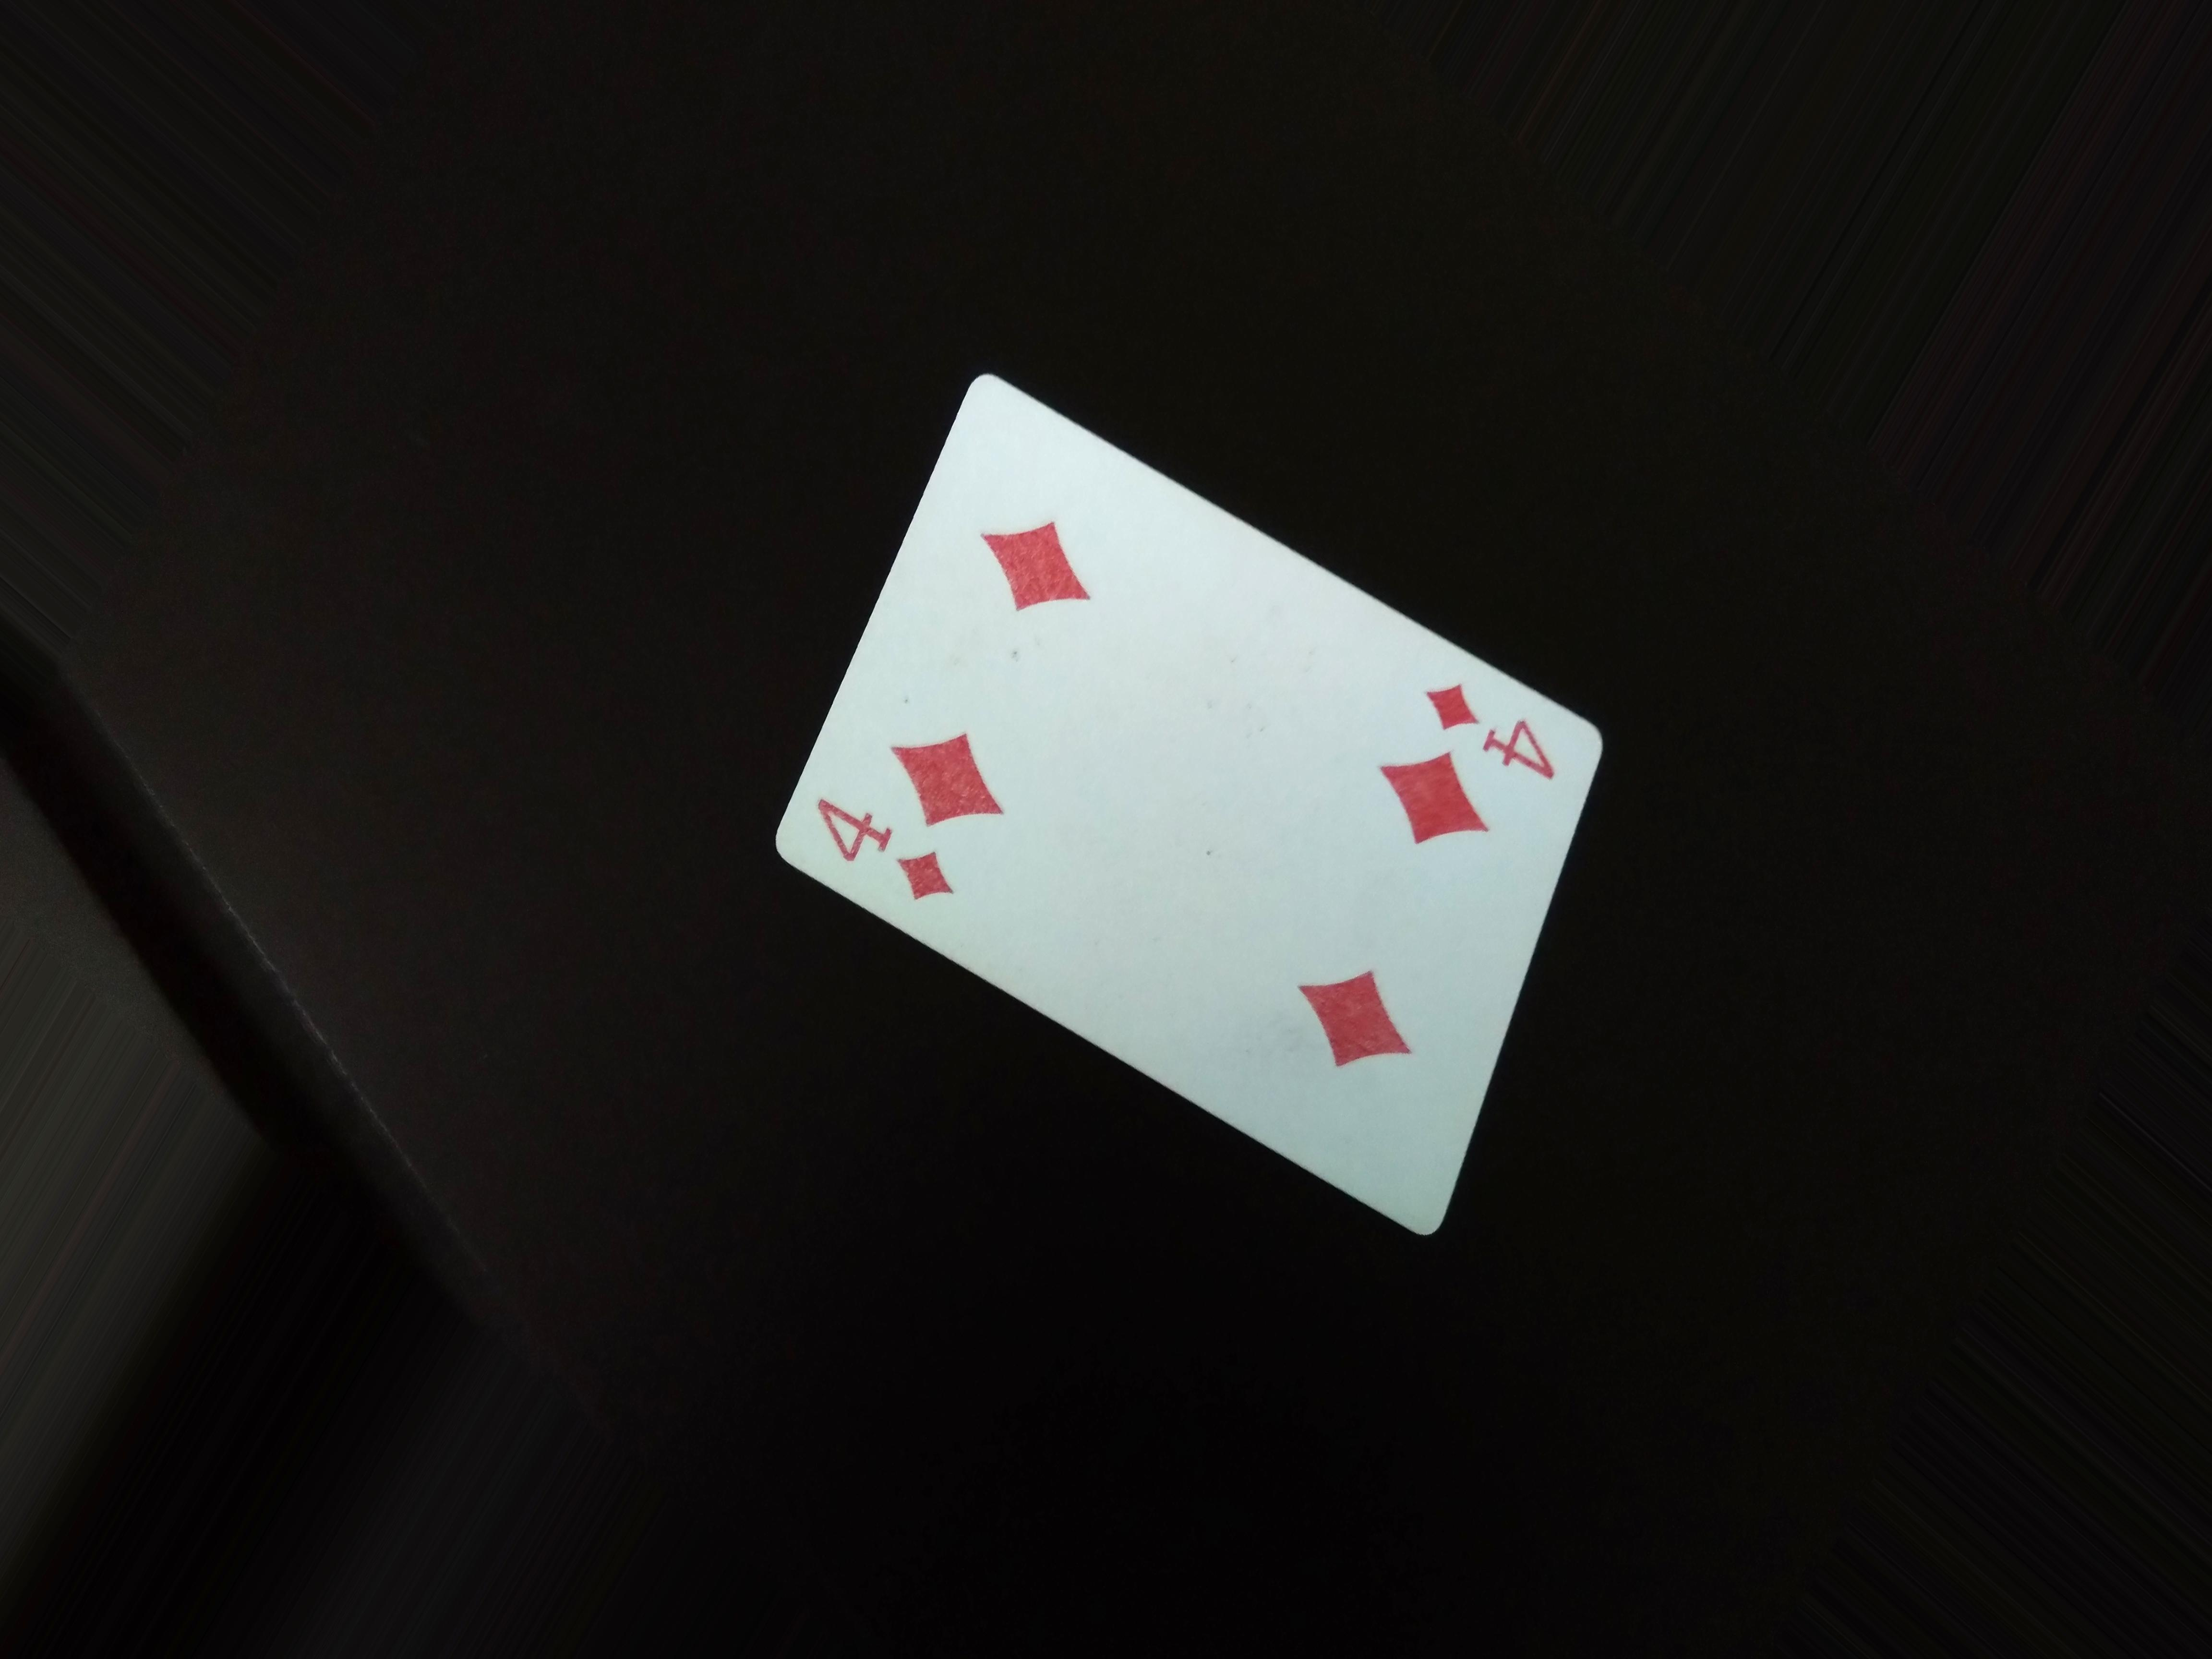4D: (1421, 673, 1571, 786)
